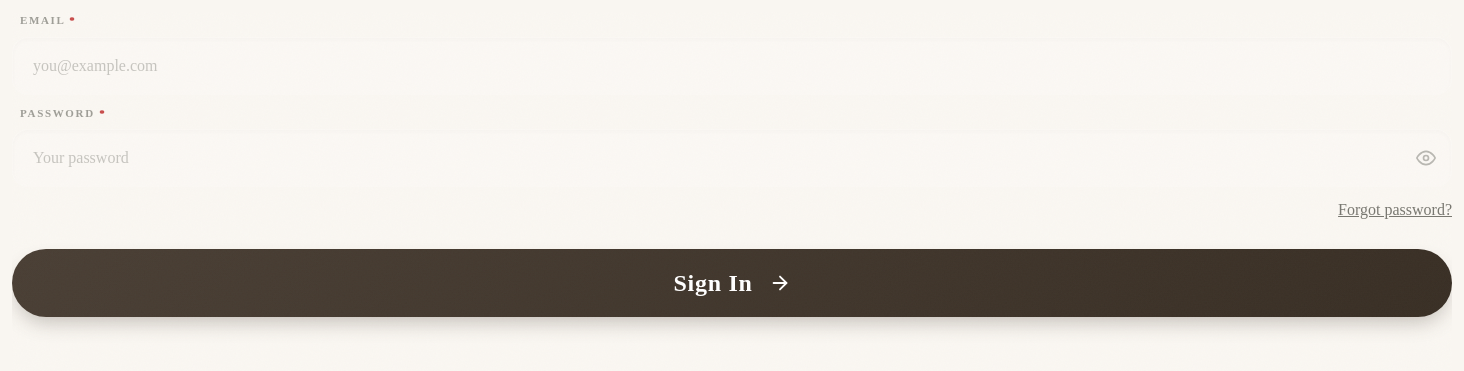
Scenario: LoginForm › shows a generic message inline on an unexpected (network/server) error
Type "jane@example.com" into the field with placeholder "you@example.com" at (732, 66), box [12,36,1452,94]
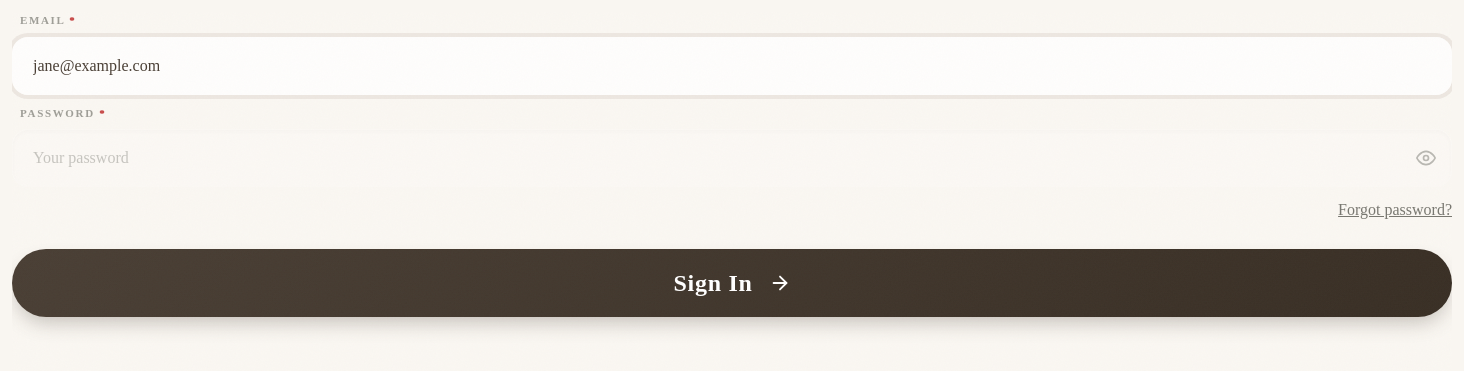
Type "Password1" into the password field with placeholder "Your password" at (732, 158), box [12,129,1452,187]
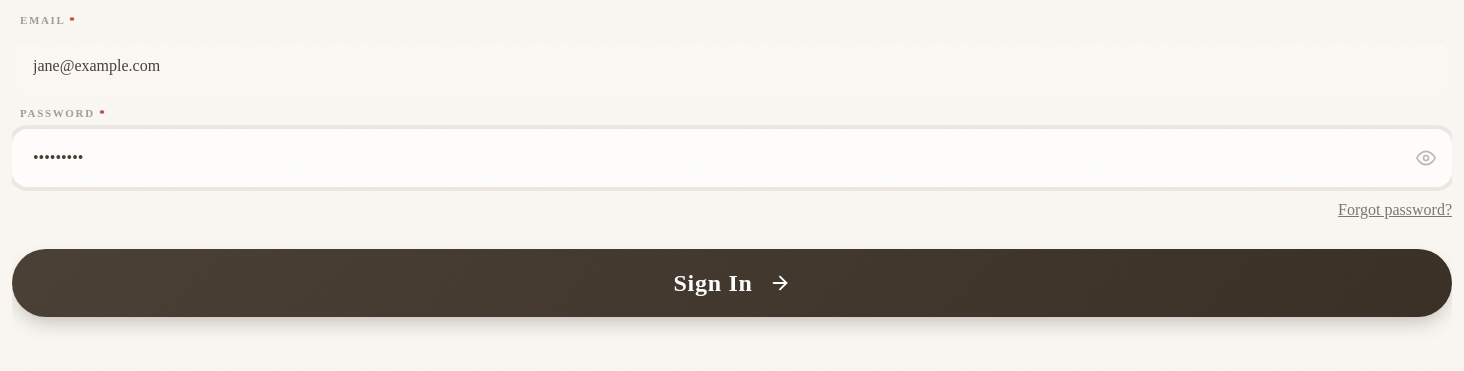
Click the button "Sign In" at (732, 283), box [12,249,1452,317]
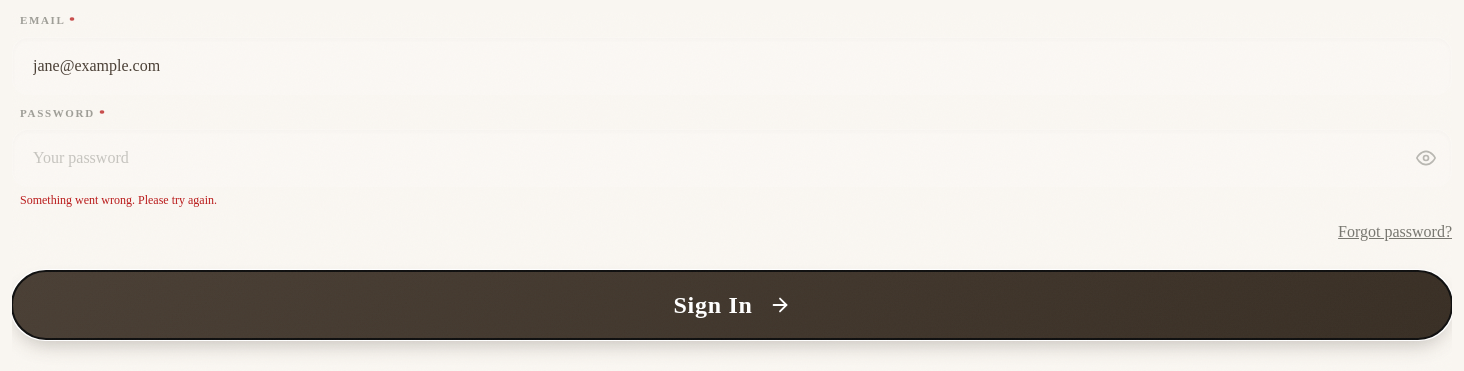
Now the message reads "Something went wrong. Please try again.", box [20,193,217,207]
Now the password field with placeholder "Your password" is empty, box [12,129,1452,187]
